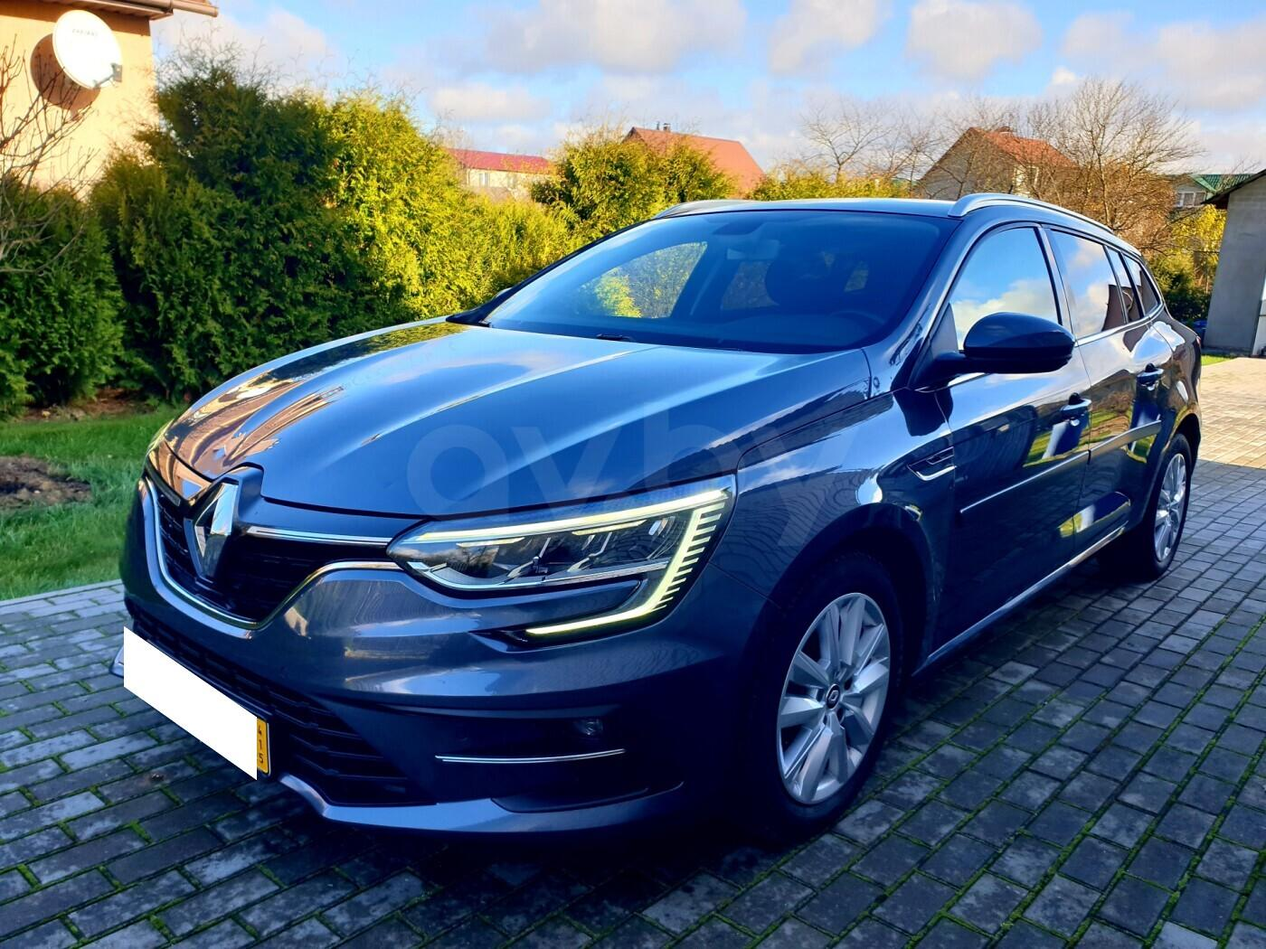Megane_2020: (101, 189, 1200, 834)
